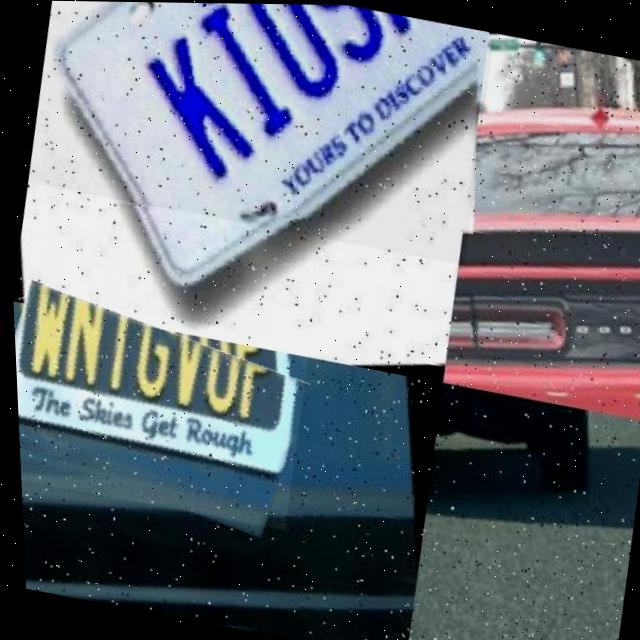LicensePlate: (19, 0, 501, 264), (10, 288, 312, 529)
